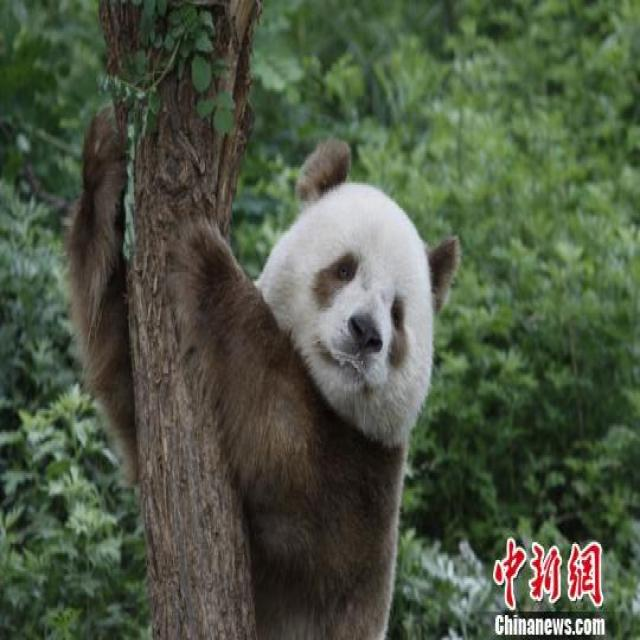panda: (64, 75, 448, 640)
